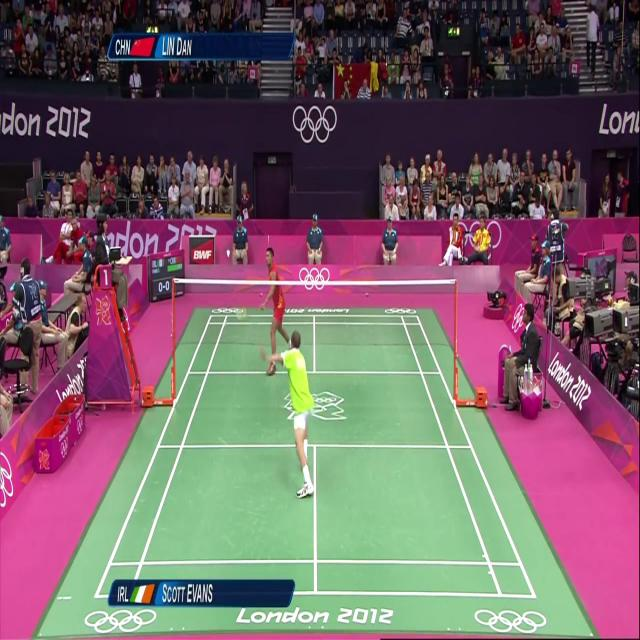Net: (172, 278, 461, 347)
Player1: (259, 320, 333, 500)
Player2: (256, 241, 297, 373)
Shuttlecock: (224, 242, 231, 260)
